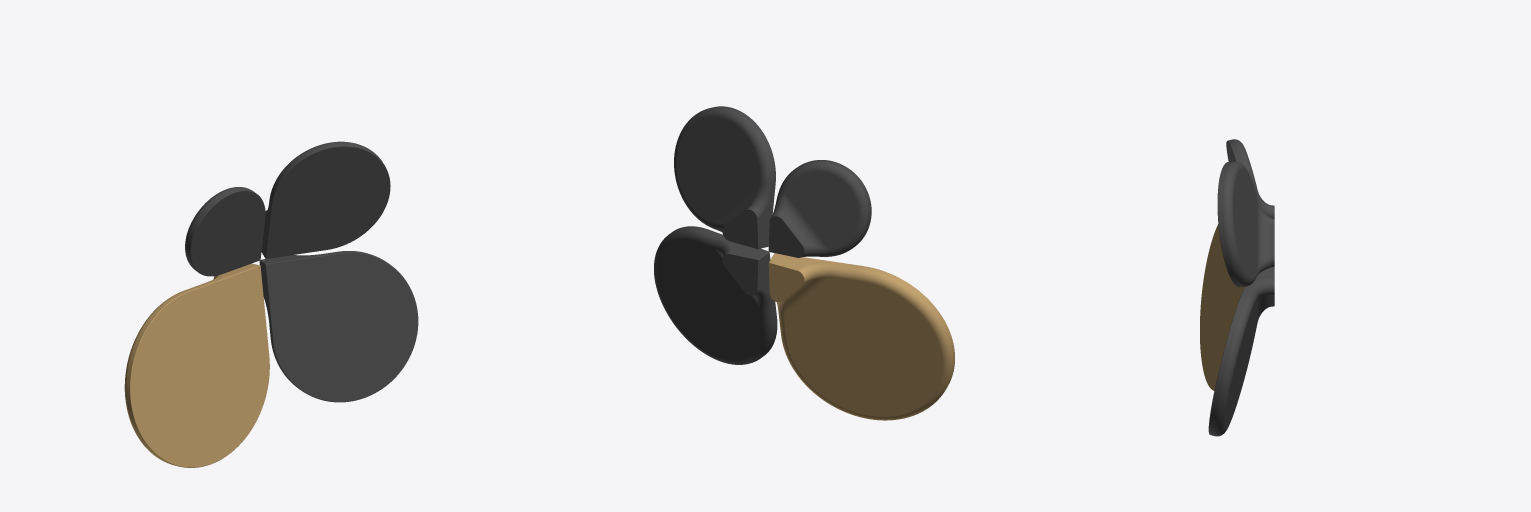
The model's file is multipetal.glb.
3 views of the same model, side by side, from view 1: azimuth 30°, elevation 25°; view 2: azimuth 150°, elevation 25°; view 3: azimuth 270°, elevation 25° (orthographic).
Parts seen in each view (by area): view 1: petal 4, petal 3, petal 2, petal 1; view 2: petal 4, petal 3, petal 2, petal 1; view 3: petal 2, petal 3, petal 4, petal 1.
Boxes of the visible parts, box(x1,y1,x2,y2) form: petal 4: box(124, 263, 269, 467); petal 3: box(259, 251, 418, 402); petal 2: box(261, 141, 390, 258); petal 1: box(185, 187, 265, 276); petal 4: box(768, 253, 954, 420); petal 3: box(654, 226, 777, 364); petal 2: box(674, 106, 775, 248); petal 1: box(768, 160, 871, 257); petal 2: box(1217, 161, 1274, 287); petal 3: box(1208, 266, 1274, 436); petal 4: box(1200, 224, 1244, 390); petal 1: box(1226, 139, 1274, 218).
Bounding box in the file's own units: 0.2159 × 0.2159 × 0.2159.
